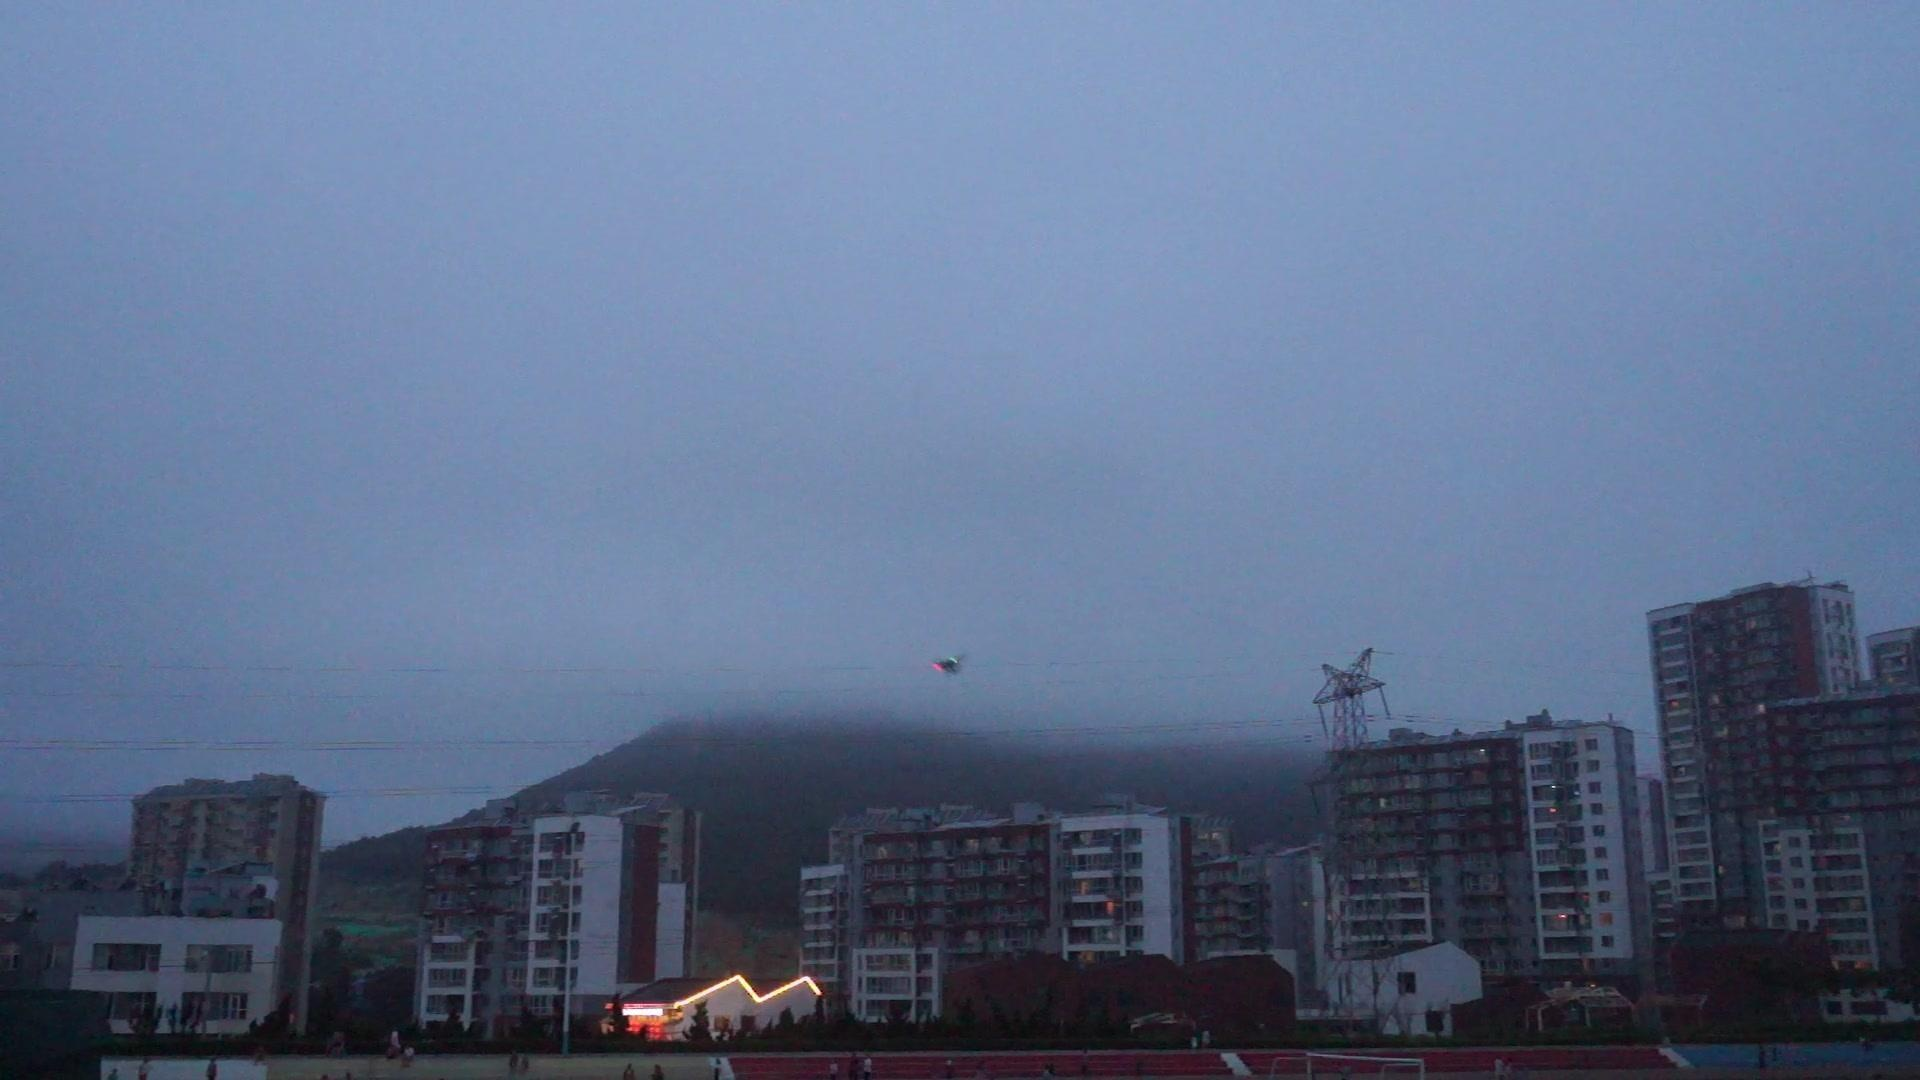UAV: (930, 657, 963, 676)
